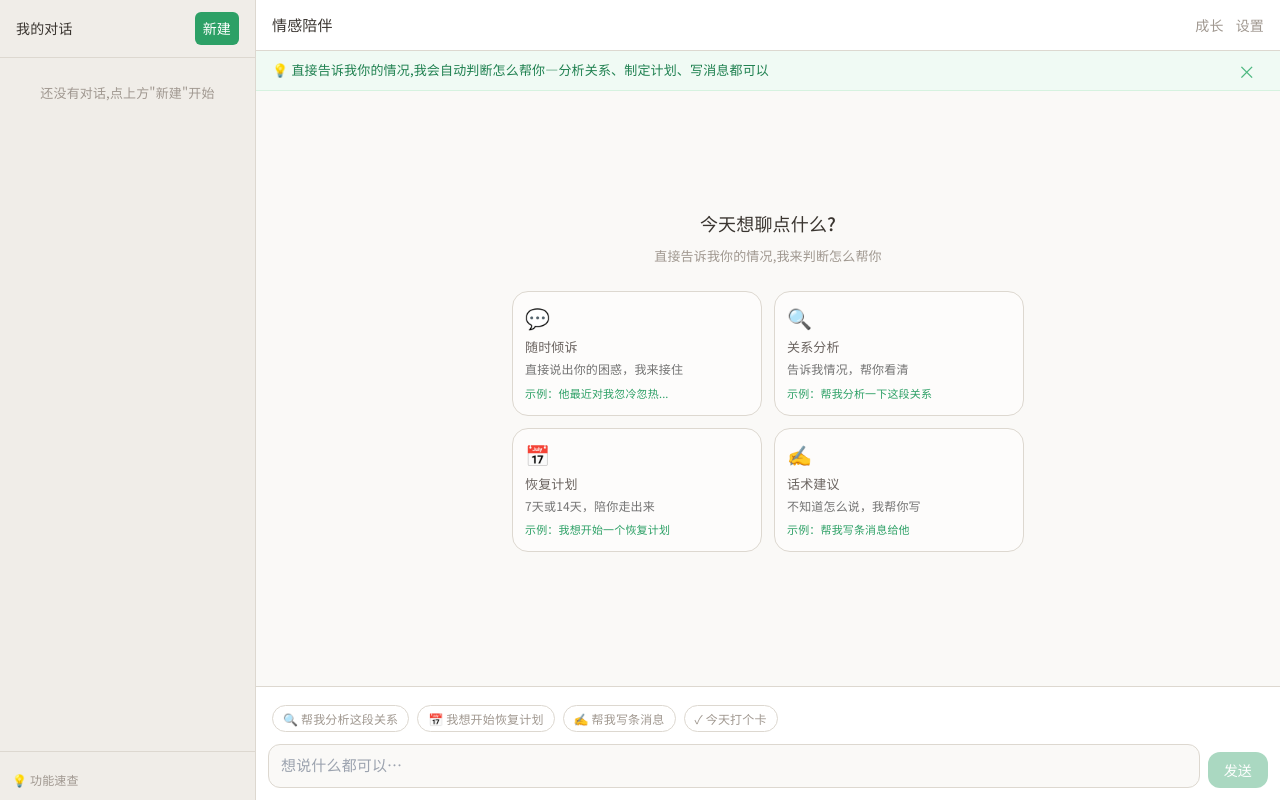
Scenario: <ChatPage /> empty state feature hints › clicking a feature hint card fills the input with its example
Click the button with test id "feature-hint-关系分析".
click(899, 354)  # box x1=774 y1=291 x2=1024 y2=416
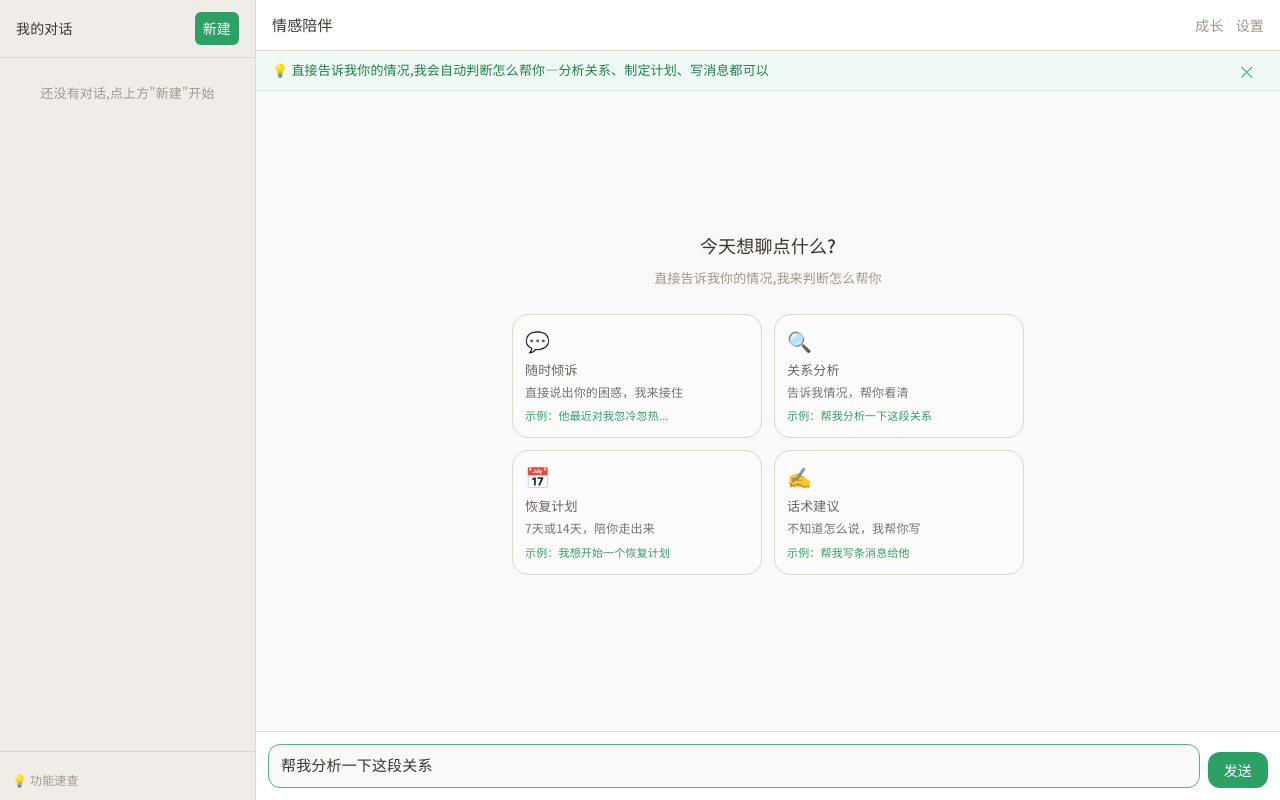
Expected: the text box named "输入消息" holds "帮我分析一下这段关系", x1=268 y1=744 x2=1200 y2=788
